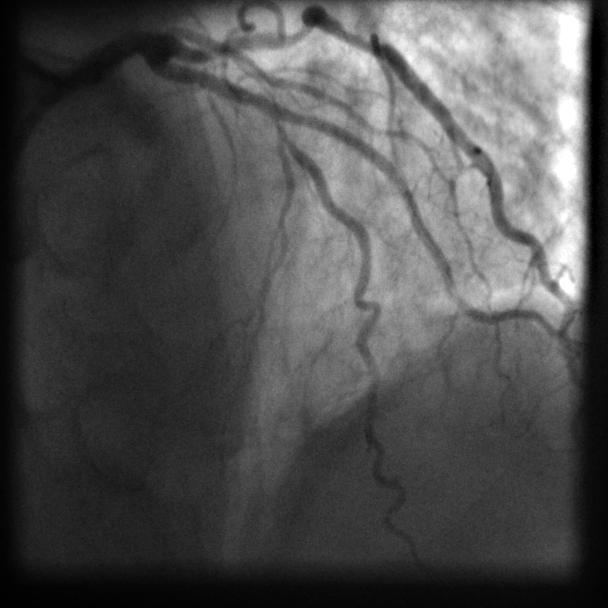Stenosis: (254, 69, 289, 129)
